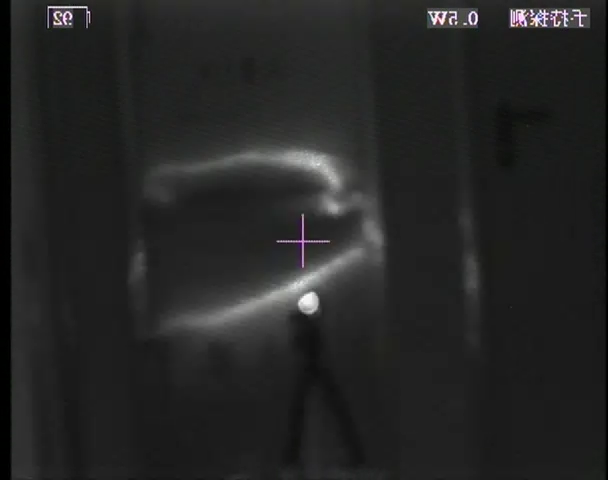my: (295, 288, 322, 317)
